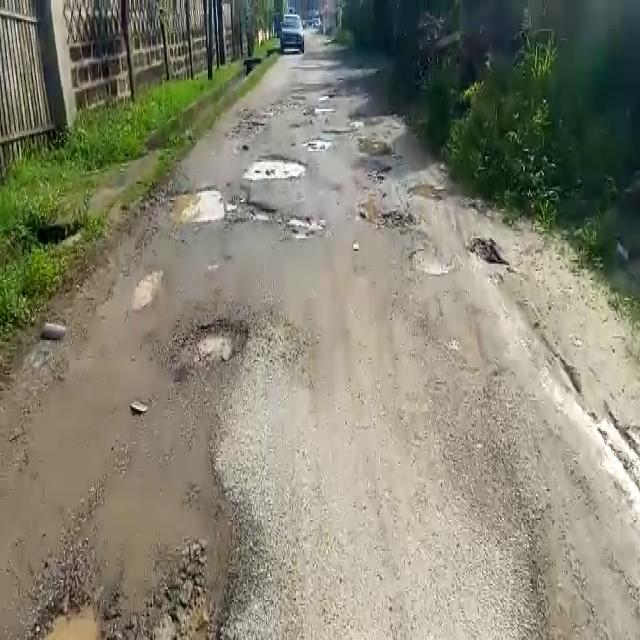Pothole: (169, 314, 249, 376), (180, 188, 280, 228), (242, 152, 310, 179), (286, 216, 330, 240), (305, 137, 335, 150)
